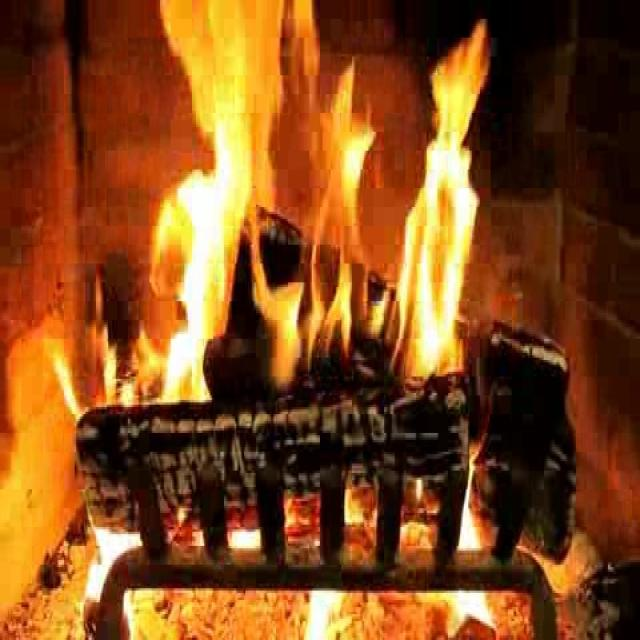fire: (136, 7, 480, 413)
